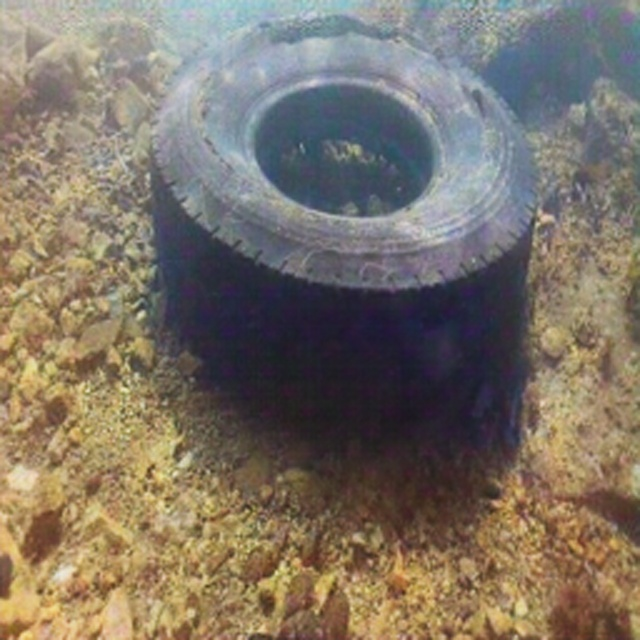mine: (148, 13, 540, 412)
